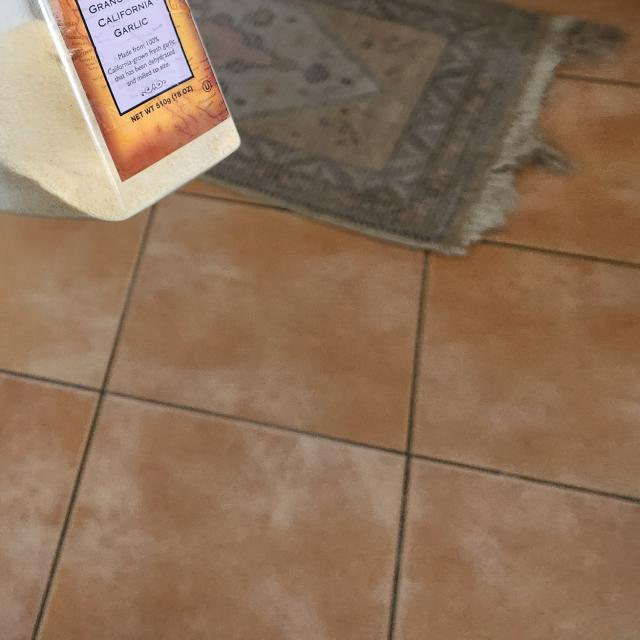garlic: (0, 0, 247, 219)
